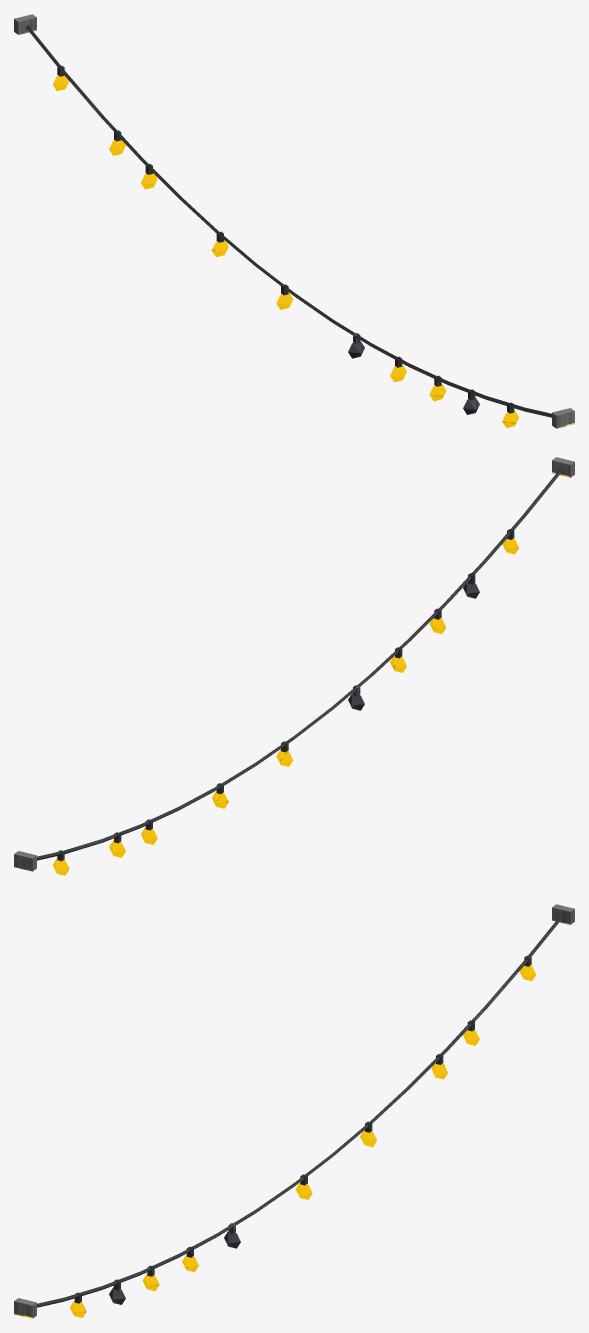
The model's file is nodexeus-set-run-lights.glb.
3 views of the same model, one above another, from view 1: azimuth 30°, elevation 25°; view 2: azimuth 150°, elevation 25°; view 3: azimuth 330°, elevation 25° (orthographic).
Parts seen in each view (by area): view 1: set-run-lights; view 2: set-run-lights; view 3: set-run-lights.
Boxes of the visible parts, x1,y1,x2,y2 form: set-run-lights: (14,14,574,428); set-run-lights: (14,457,574,875); set-run-lights: (14,904,574,1318).
Bounding box in the file's own units: 0.12 × 0.6221 × 6.05.
1 material, 1 textured.
